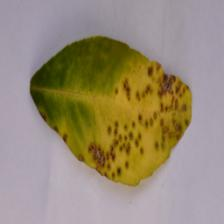canker: (93, 57, 205, 182)
